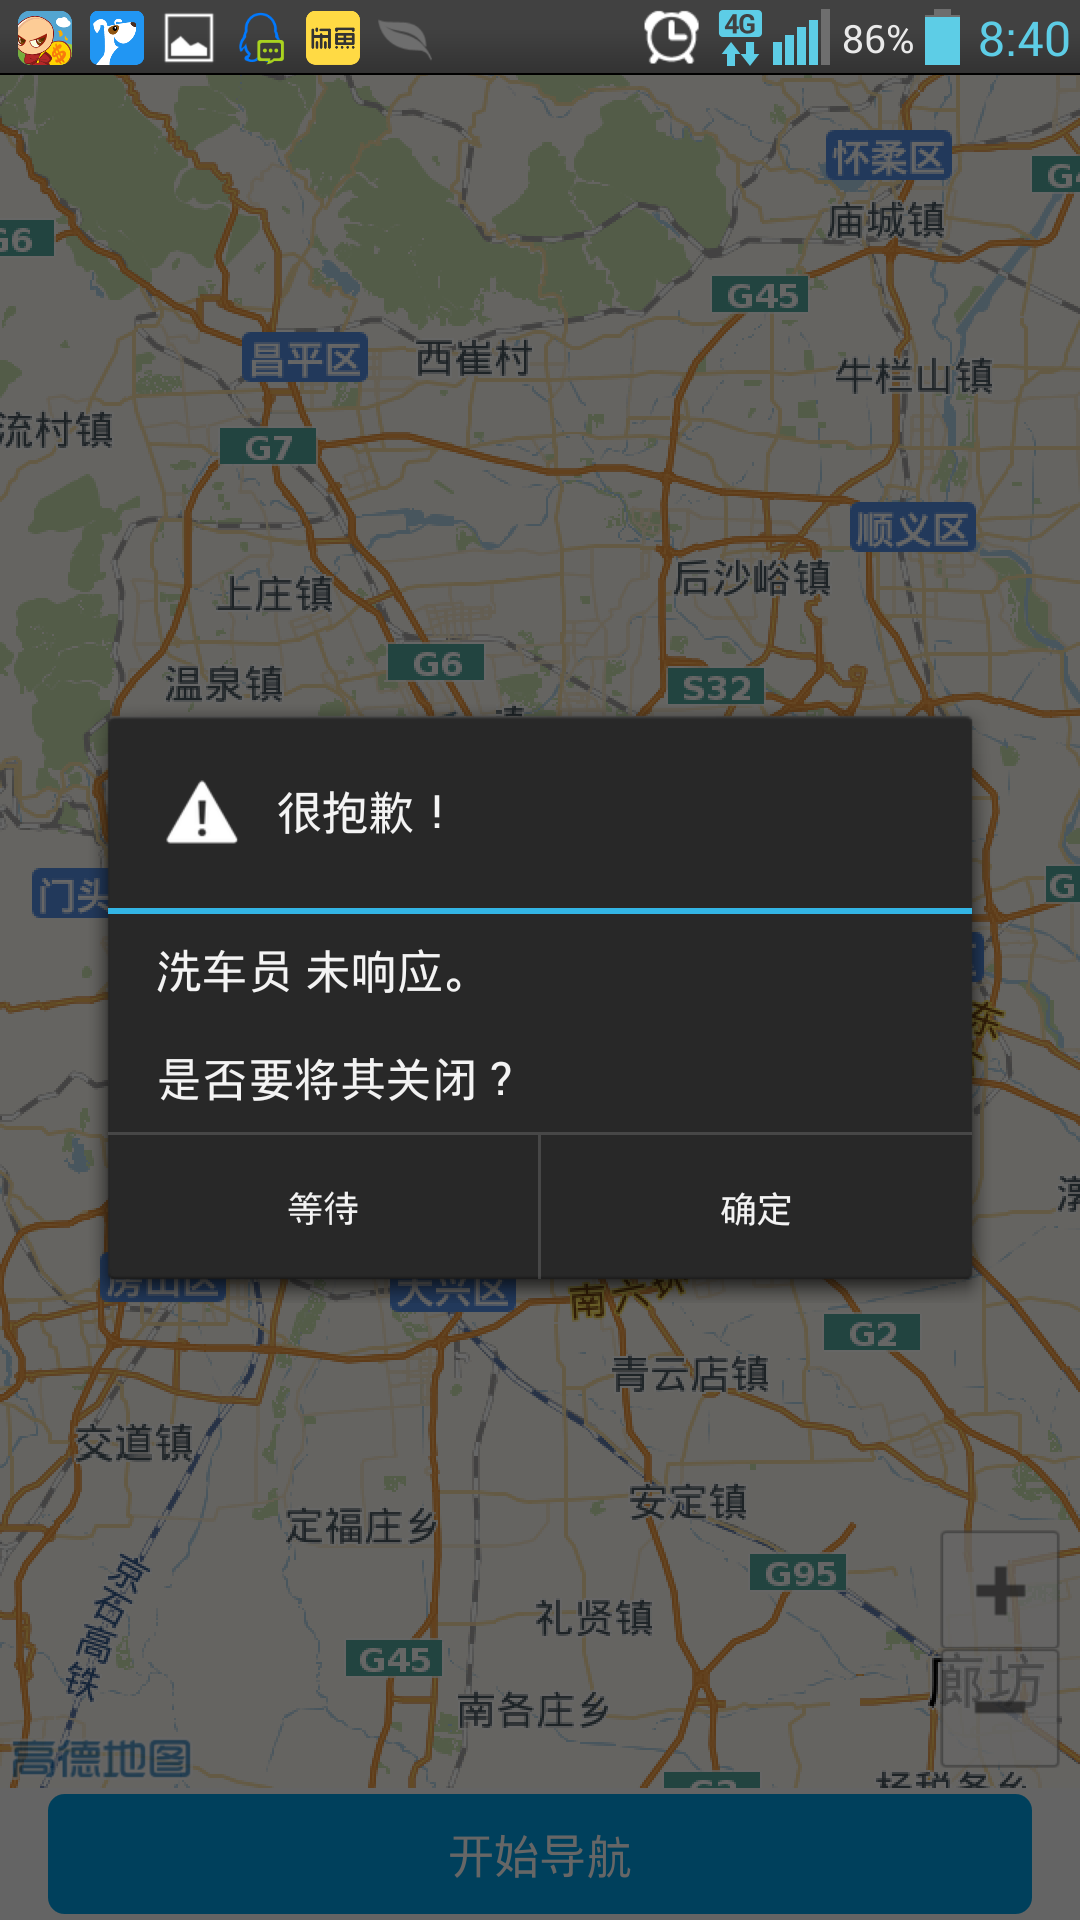alert: (105, 700, 986, 1296)
button: (516, 1124, 984, 1302), (116, 1129, 556, 1308)
textview: (135, 923, 553, 1116)
